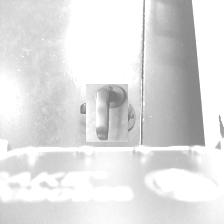Door Handle: (82, 87, 133, 138)
